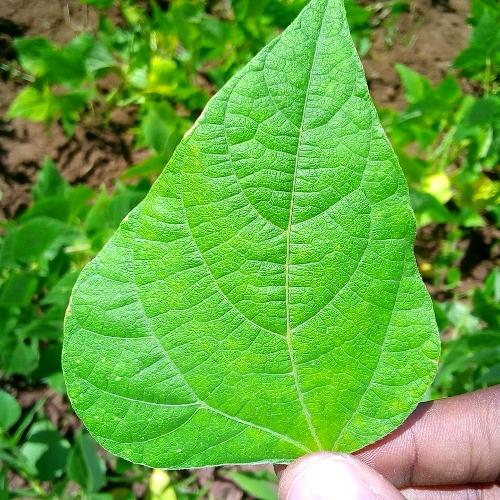sehat: (224, 86, 350, 440)
